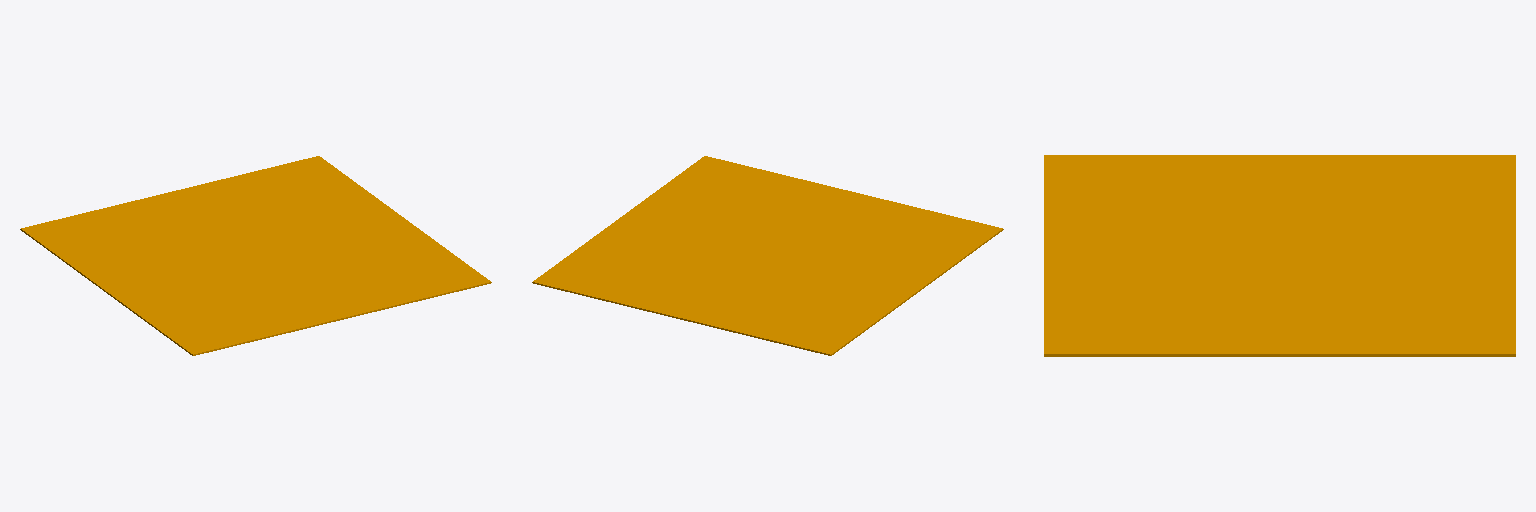
robot.urdf — my_object:
<?xml version="1.0" ?> 
<robot name="my_object">
  <link name="base_link">
  <inertial>
    <mass value="0.01" />
    <origin xyz="0 0 0" />
    <inertia  ixx="1.0" ixy="0.0"  ixz="0.0"  iyy="1.0"  iyz="0.0"  izz="1.0" />
  </inertial>
  <visual>
   <origin xyz="0 0 0.0" rpy="0 0 0" />
   <geometry>
     <mesh filename="package://cob_surface_classification/models/media/models/floor.dae" scale="5 5 0.1" />
   </geometry>
  </visual>
  <collision>
   <origin xyz="0 0 0.0" rpy="0 0 0" />
   <!--geometry>
     <mesh filename="package://cob_surface_classification/models/media/models/floor.dae" scale="5 5 0.1">
   </geometry-->
  </collision>     
  </link>

<gazebo>
	<static>true</static>
</gazebo>

</robot>

--- What the picture shows (computed from the rendered views, not written in the file) ---
Views: 3 orthographic renders of the robot side by side, from view 1: azimuth 30°, elevation 25°; view 2: azimuth 150°, elevation 25°; view 3: azimuth 270°, elevation 25°.
Model my_object with 1 links and 0 joints (none), rooted at base_link, posed every joint at zero.
Links seen in each view (by area): view 1: base_link; view 2: base_link; view 3: base_link.
Link boxes in pixels (x1,y1,x2,y2): base_link: (20,156,491,355); base_link: (532,156,1003,355); base_link: (1044,155,1515,356).
Size in the robot's own frame: 20 by 20 by 0.1 metres.
1 mesh visuals loaded from 1 distinct referenced files (1 Collada DAE).